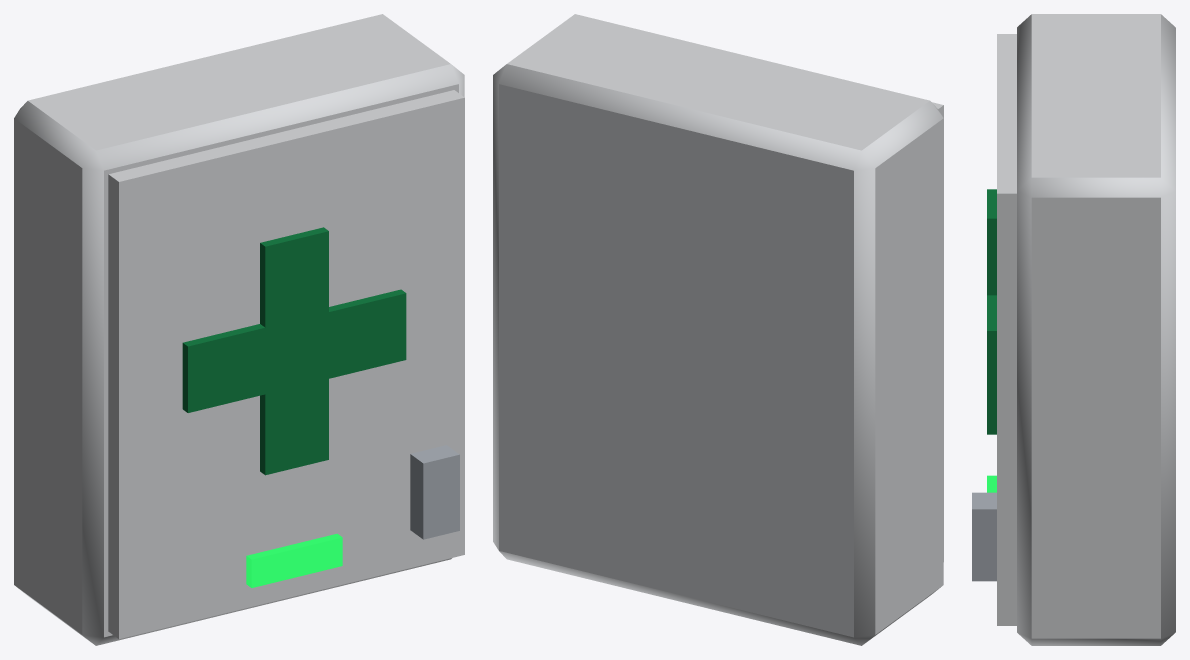
File: safety_first_aid_cabinet.glb
The picture shows the model from 3 angles, left to right: view 1: azimuth 30°, elevation 25°; view 2: azimuth 150°, elevation 25°; view 3: azimuth 270°, elevation 25°; orthographic projection. The views are drawn at different scales.
Parts seen in each view (by area): view 1: safety_first_aid_cabinet; view 2: safety_first_aid_cabinet; view 3: safety_first_aid_cabinet.
Boxes of the visible parts, x1,y1,x2,y2 form: safety_first_aid_cabinet: (14,14,464,645); safety_first_aid_cabinet: (493,14,943,645); safety_first_aid_cabinet: (972,14,1175,645).
Size of the model in its own units: 0.42 by 0.52 by 0.205.
